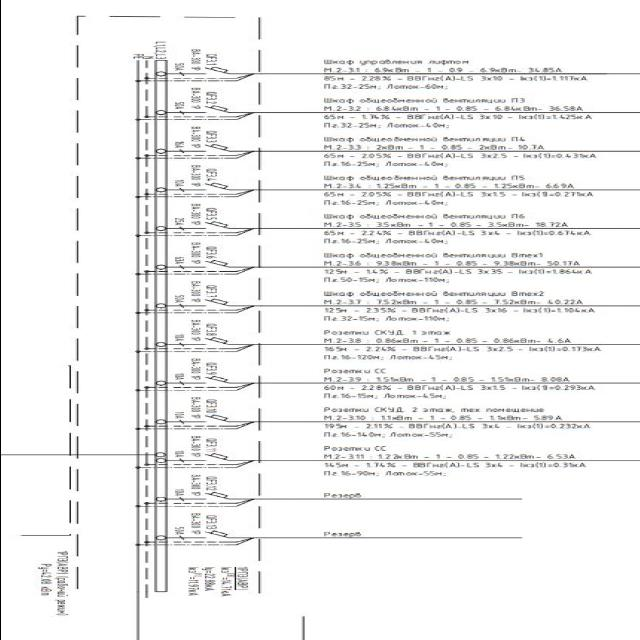-: (171, 473, 203, 498), (172, 433, 204, 458), (170, 396, 202, 420), (171, 48, 203, 72), (171, 164, 203, 188), (170, 357, 202, 381), (170, 280, 202, 304), (170, 318, 202, 342), (170, 242, 202, 266), (170, 204, 202, 228), (171, 125, 203, 149), (170, 86, 202, 110), (171, 512, 203, 535), (233, 564, 251, 590)
QF: (198, 529, 232, 540), (195, 144, 229, 154), (195, 105, 229, 115), (198, 336, 232, 346), (196, 298, 230, 308), (196, 491, 230, 501), (196, 66, 230, 76), (195, 414, 229, 424), (197, 258, 230, 268), (197, 221, 230, 231), (197, 182, 230, 192), (197, 374, 230, 384), (197, 454, 230, 464)
